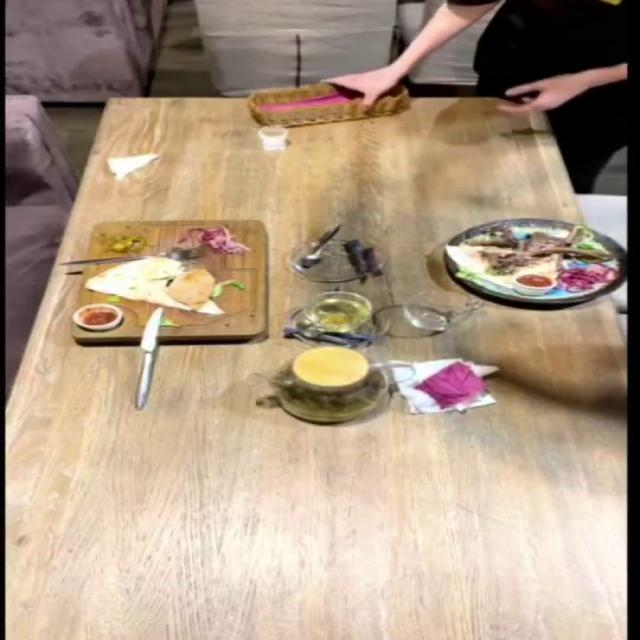tea: (253, 329, 440, 438)
